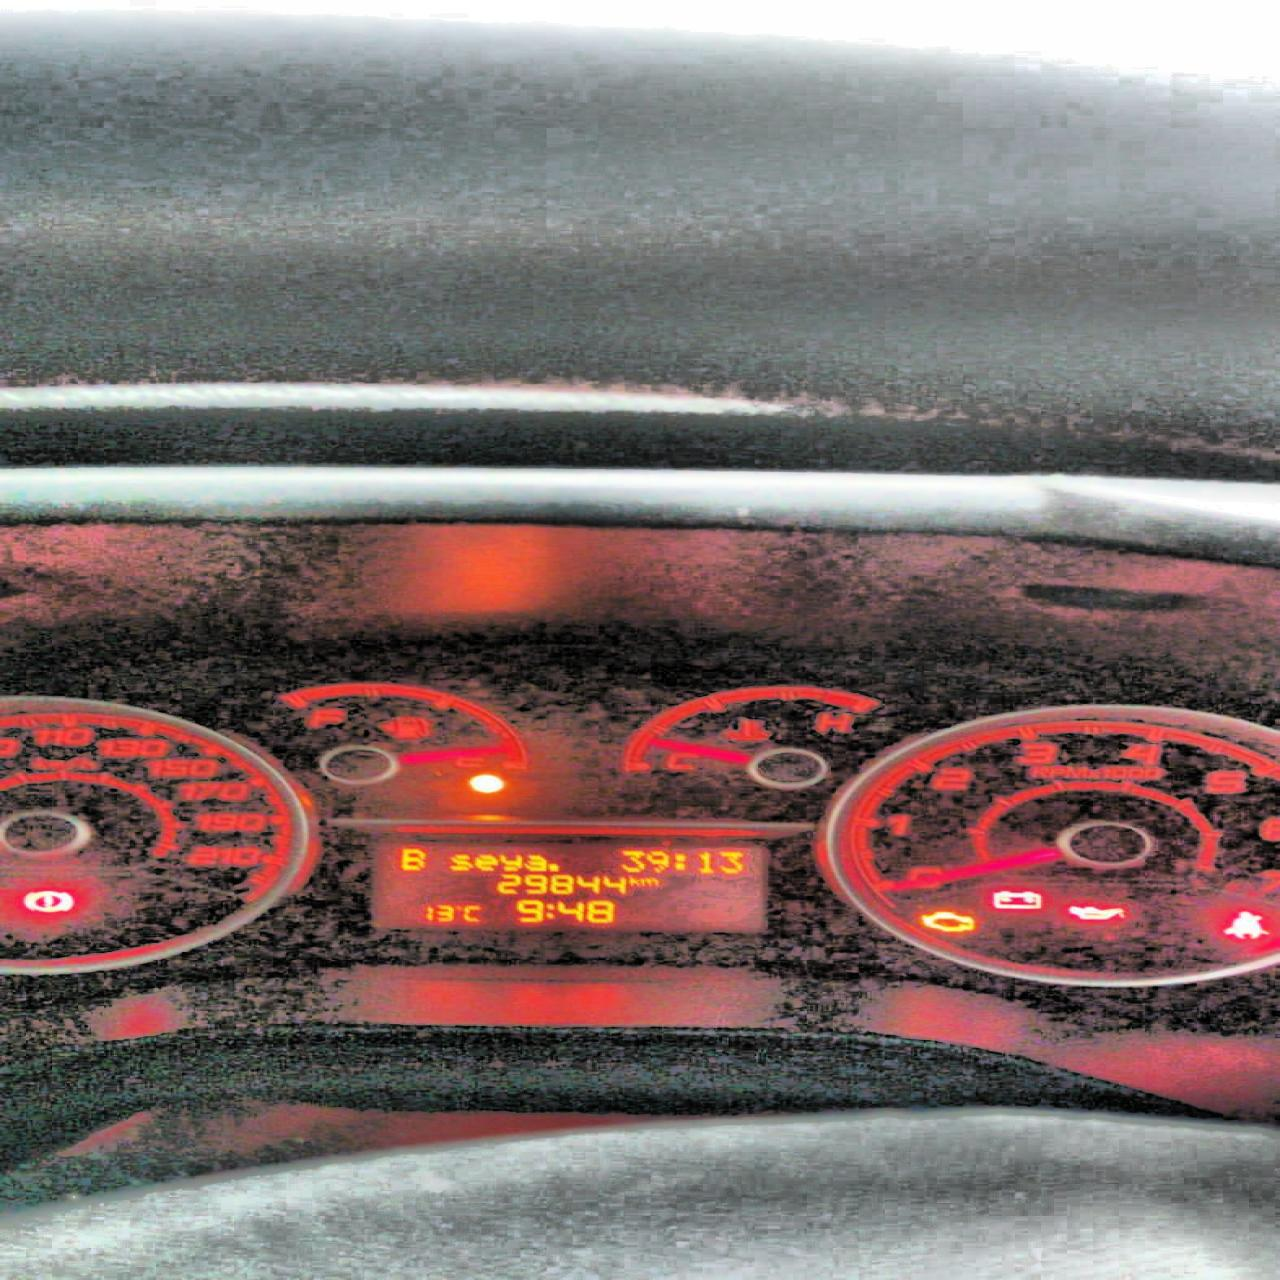-: (546, 862, 563, 872)
1: (694, 849, 715, 874), (424, 903, 433, 922)
2: (496, 873, 520, 893)
3: (717, 850, 743, 874), (620, 847, 645, 871), (433, 903, 452, 921)
4: (557, 899, 584, 921), (600, 874, 626, 893), (574, 873, 597, 892)
8: (584, 899, 615, 922), (550, 873, 572, 894)
9: (515, 899, 542, 922), (522, 872, 549, 893)
X: (399, 846, 427, 870), (498, 853, 523, 871), (524, 853, 546, 872), (448, 853, 471, 871), (471, 853, 495, 871), (462, 904, 482, 921), (672, 851, 688, 871), (640, 876, 660, 886), (543, 900, 553, 918), (626, 874, 639, 886)
odometer: (379, 842, 769, 932)
